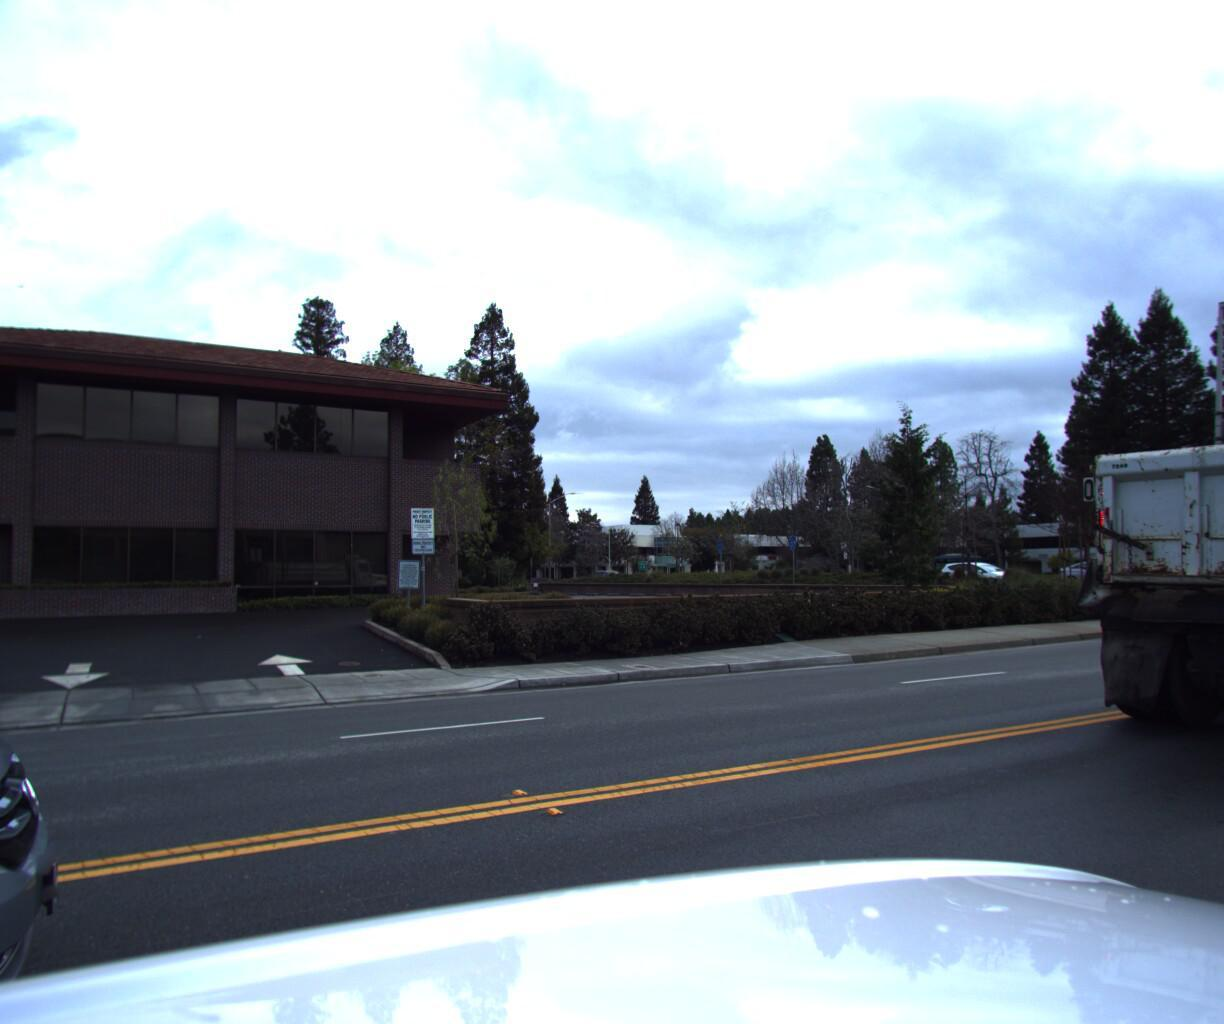car: (918, 559, 1014, 594)
truck: (1031, 256, 1224, 787)
